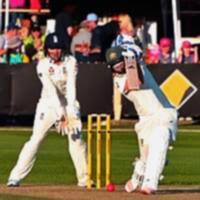batsman: (106, 38, 182, 197)
